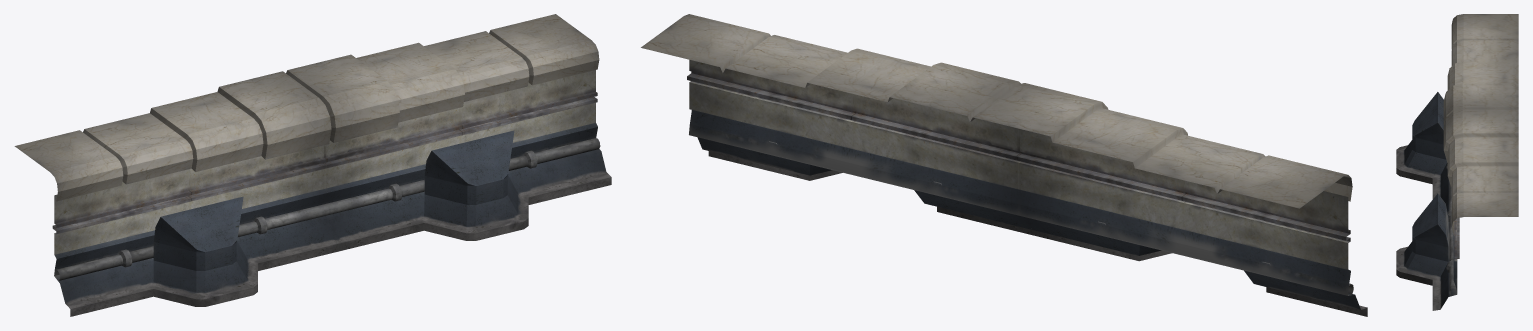
File: Wall.fbx
3 renders of one model, left to right at view 1: azimuth 30°, elevation 25°; view 2: azimuth 150°, elevation 25°; view 3: azimuth 270°, elevation 25°, orthographic. The views are drawn at different scales.
Visible parts, largest first — view 1: Wall_Section_Main; view 2: Wall_Section_Main; view 3: Wall_Section_Main.
Part boxes in pixels (box(x1,y1,x2,y2)): Wall_Section_Main: box(14, 14, 611, 316); Wall_Section_Main: box(641, 14, 1367, 316); Wall_Section_Main: box(1396, 14, 1518, 310).
Size of the model in its own units: 3.63 by 0.8919 by 0.9217.
Materials: 1 (1 with a texture image).
